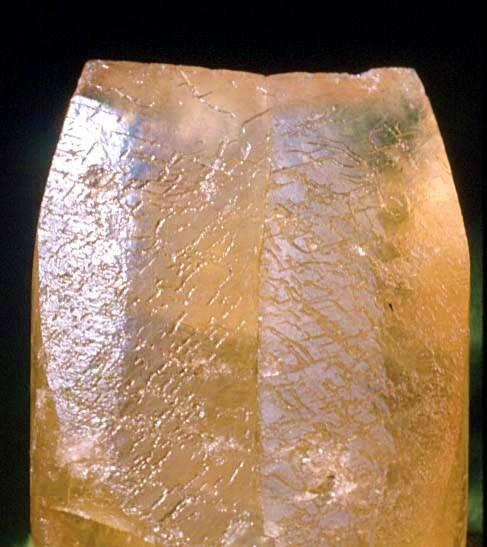calcite: (30, 60, 470, 546)
